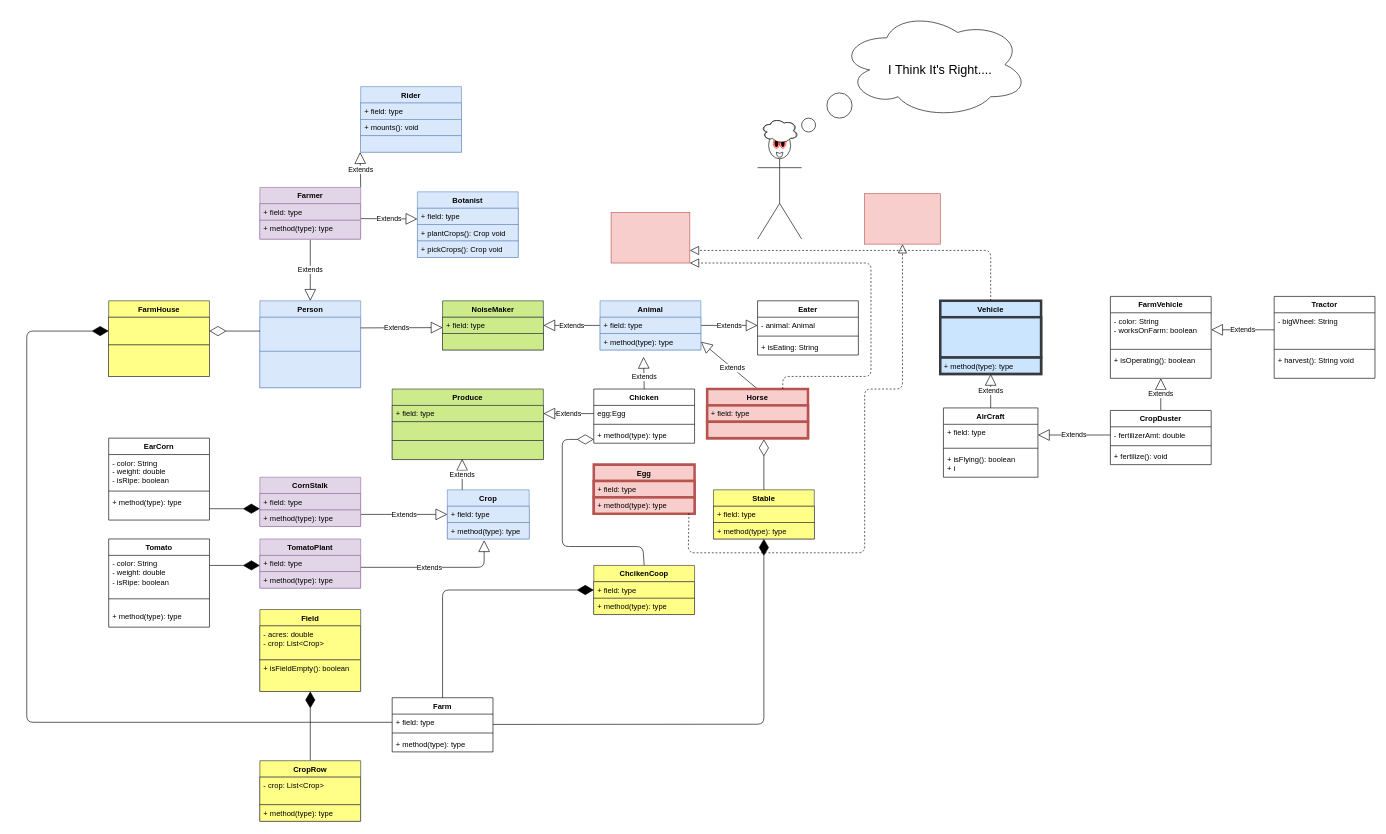
Some shapes in this 1386 by 834 pixel diagram are drawn without their labels. The shapes that lost their labels are listed below. From the top down, each one's centre as x and y in pixels, then its label:
At point (410, 143): "+ disMount(): void".
At point (779, 185): "Actor".
At point (650, 237): "«interface» Rideable".
At point (902, 218): "«interface» Edible".
At point (158, 331): "- size: int - houseHoldCapacity: int".
At point (310, 334): "- color: String - hairLength: int - gender: char".
At point (492, 341): "+ makeNoise():String".
At point (990, 337): "- wheels: Object - lights: boolean - topSpeed: int".
At point (158, 360): "+ isOccupied(): boolean +".
At point (310, 369): "+ isWalking(): boolean + isBreathing(): boolean".
At point (467, 431): "+public hasBeenHarvested():boolean".
At point (757, 429): "+ isGalloping(): boolean".
At point (467, 450): "+public hasBeenFertilized():boolean".
